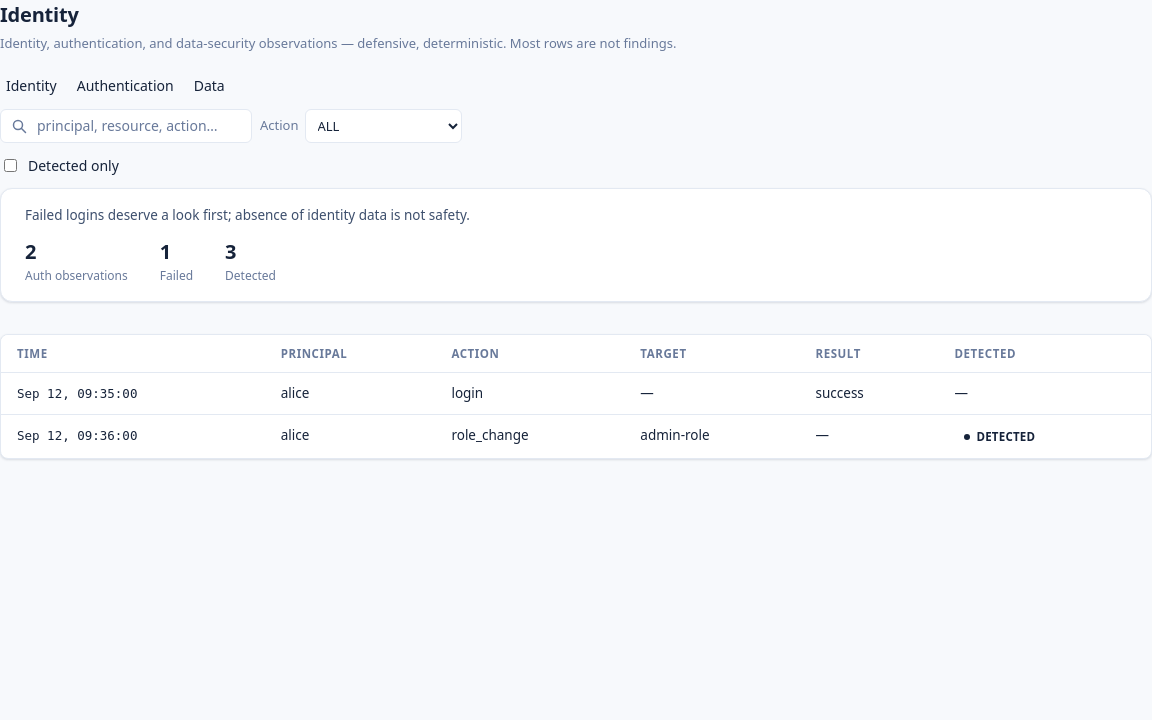
Test: Identity › opens detail drawer with provenance
The image size is (1152, 720).
Click the text "role_change" at (530, 436), box [435,414,624,458]
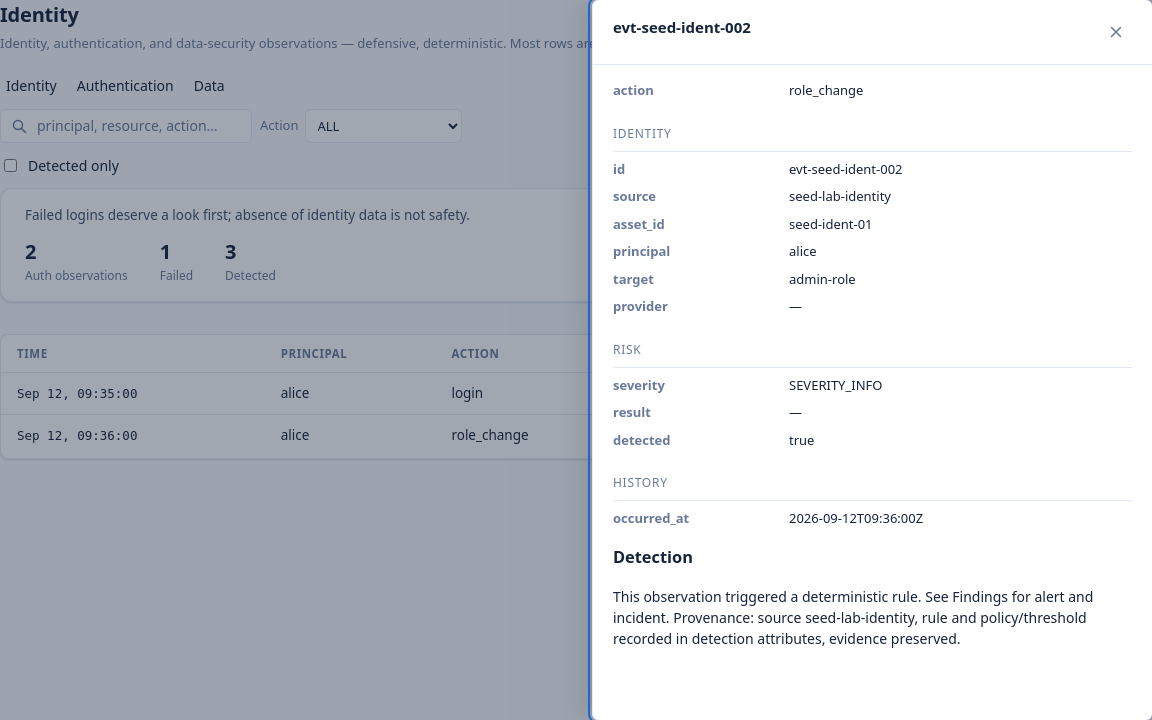
Now the heading "Detection" is shown, box [613,546,693,568]
Now the text "admin-role" is shown, box [789,270,856,288]
